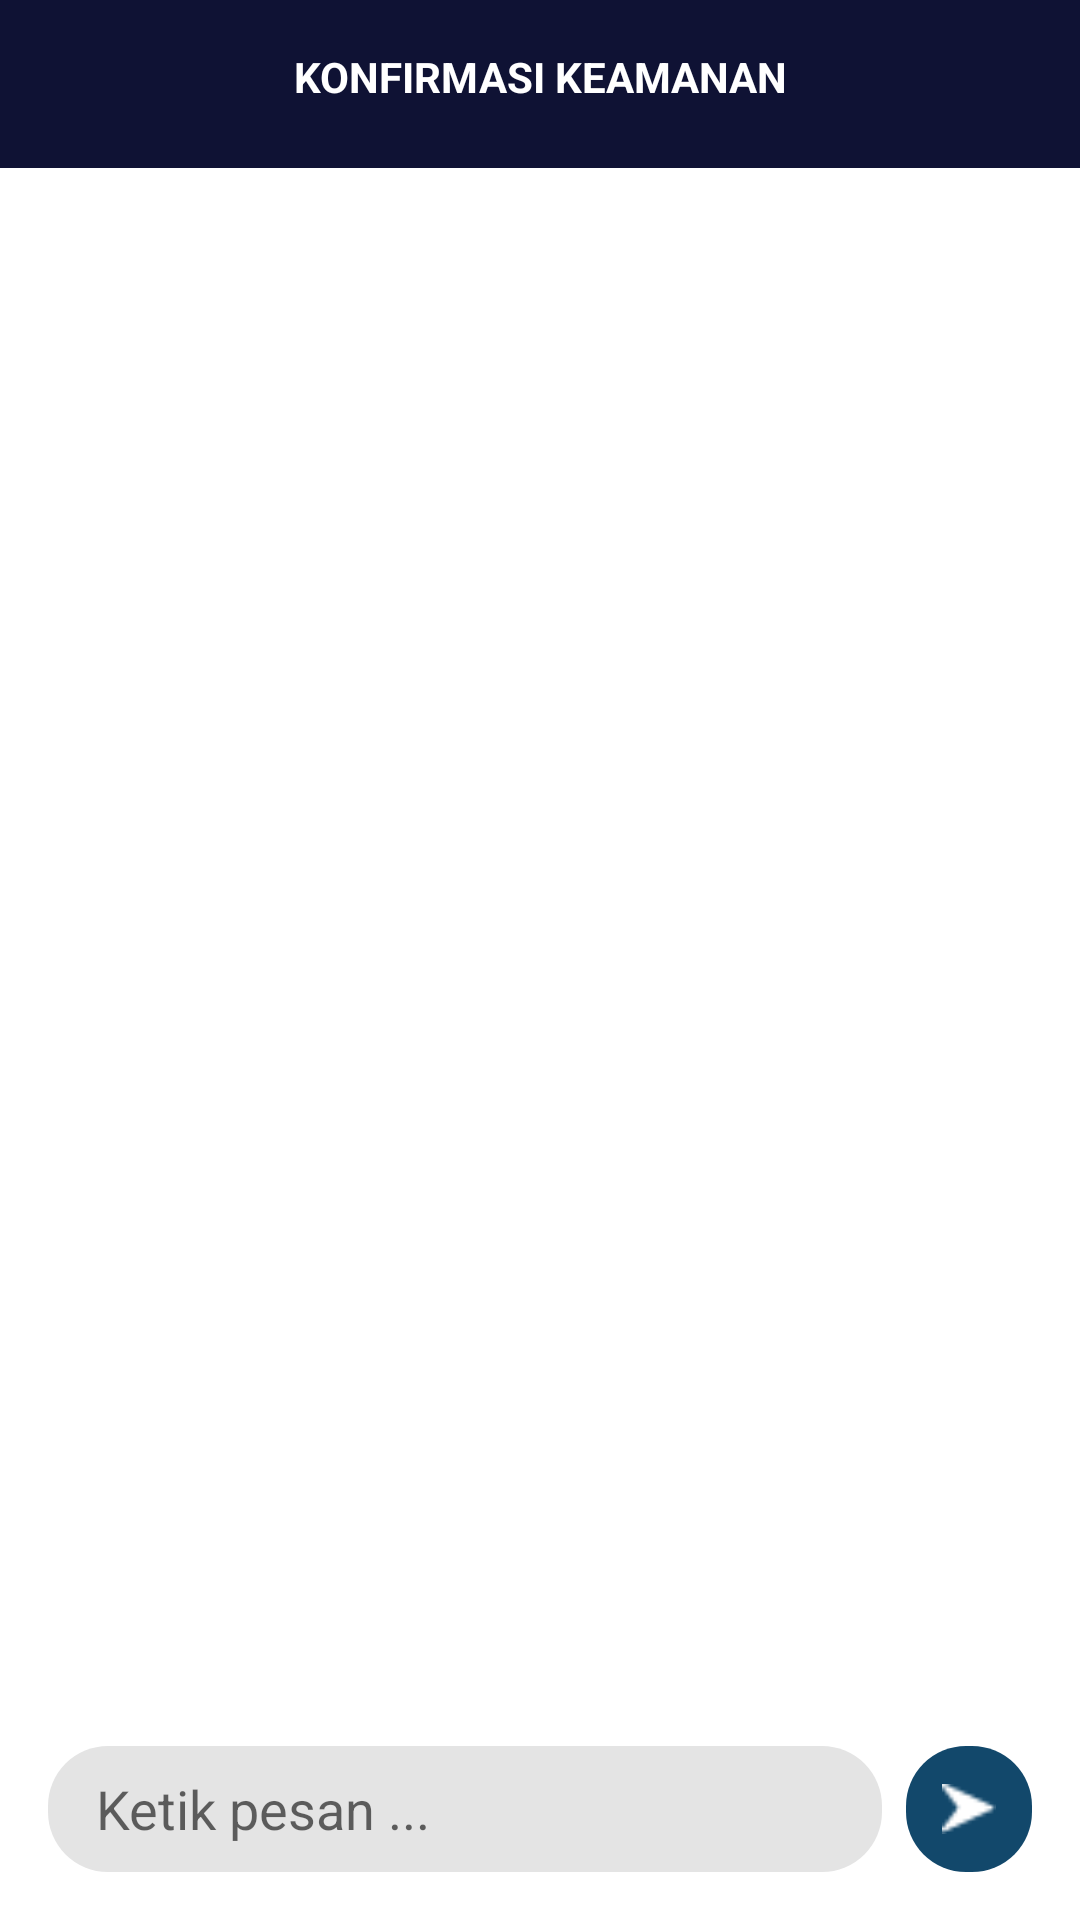

Where icons sit on this 1080px x 1920px app screen, as detection(x1, y1, x2, y2):
right arrow: detection(906, 1746, 1032, 1872)
